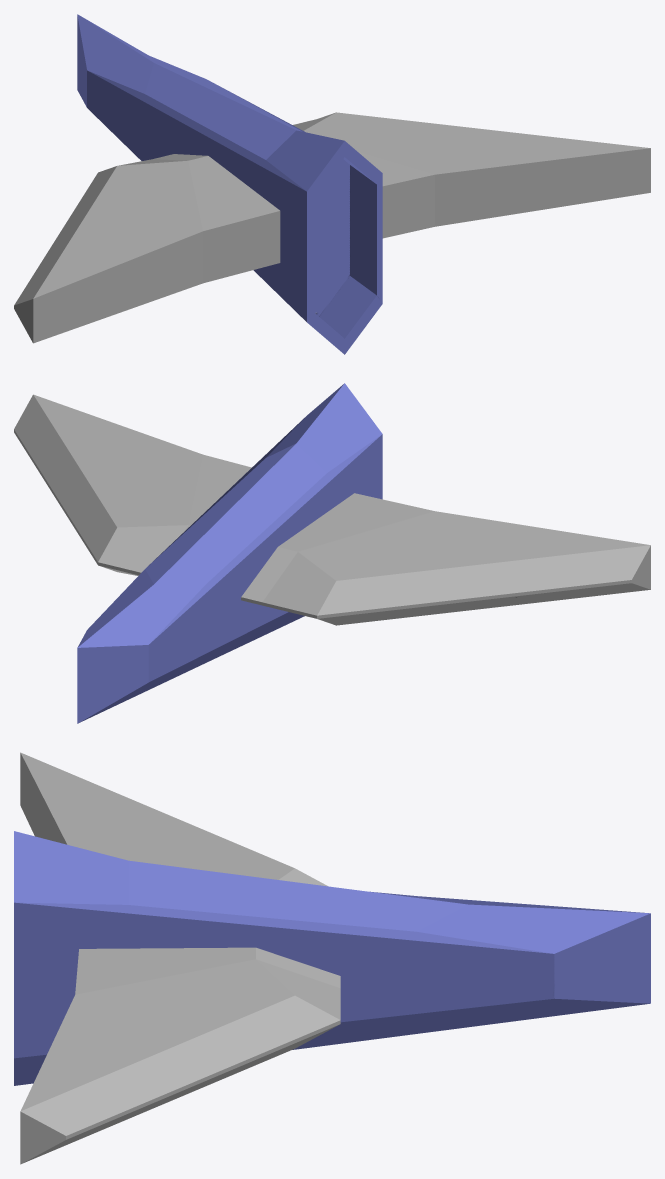
File: airship.obj
3 views of the same model, one above another, from view 1: azimuth 30°, elevation 25°; view 2: azimuth 150°, elevation 25°; view 3: azimuth 270°, elevation 25° (orthographic). The views are drawn at different scales.
Parts seen in each view (by area): view 1: Cube.001; view 2: Cube.001; view 3: Cube.001.
Part boxes in pixels (x1,y1,x2,y2): Cube.001: (14,14,650,354); Cube.001: (14,383,650,723); Cube.001: (14,752,650,1164).
Bounding box in the file's own units: 5.64 × 1.87 × 4.23.
1 material, 1 textured.
